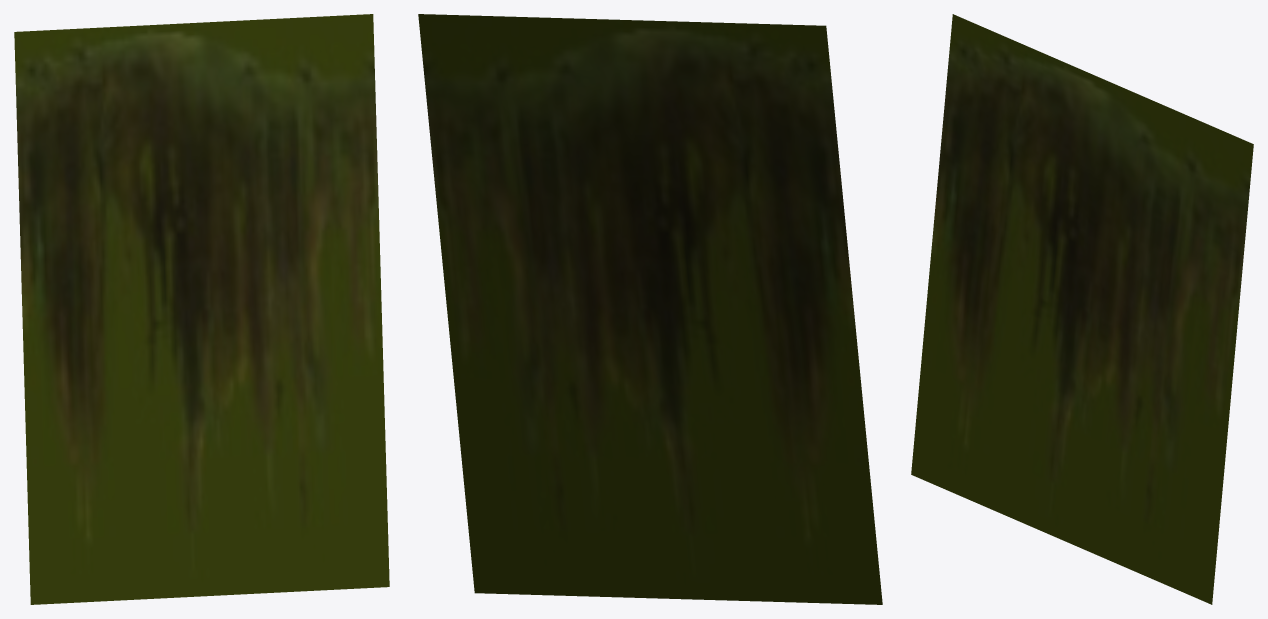
Rendered from moss_a.fbx.
3 views of the same model, side by side, from view 1: azimuth 30°, elevation 25°; view 2: azimuth 150°, elevation 25°; view 3: azimuth 330°, elevation 25° (orthographic). The views are drawn at different scales.
Visible parts, largest first — view 1: moss_a; view 2: moss_a; view 3: moss_a.
Part boxes in pixels (x1,y1,x2,y2): moss_a: [14, 14, 389, 604]; moss_a: [418, 14, 882, 604]; moss_a: [911, 14, 1253, 604].
Size of the model in its own units: 1658 by 2570 by 292.
Materials: 1 (1 with a texture image).
